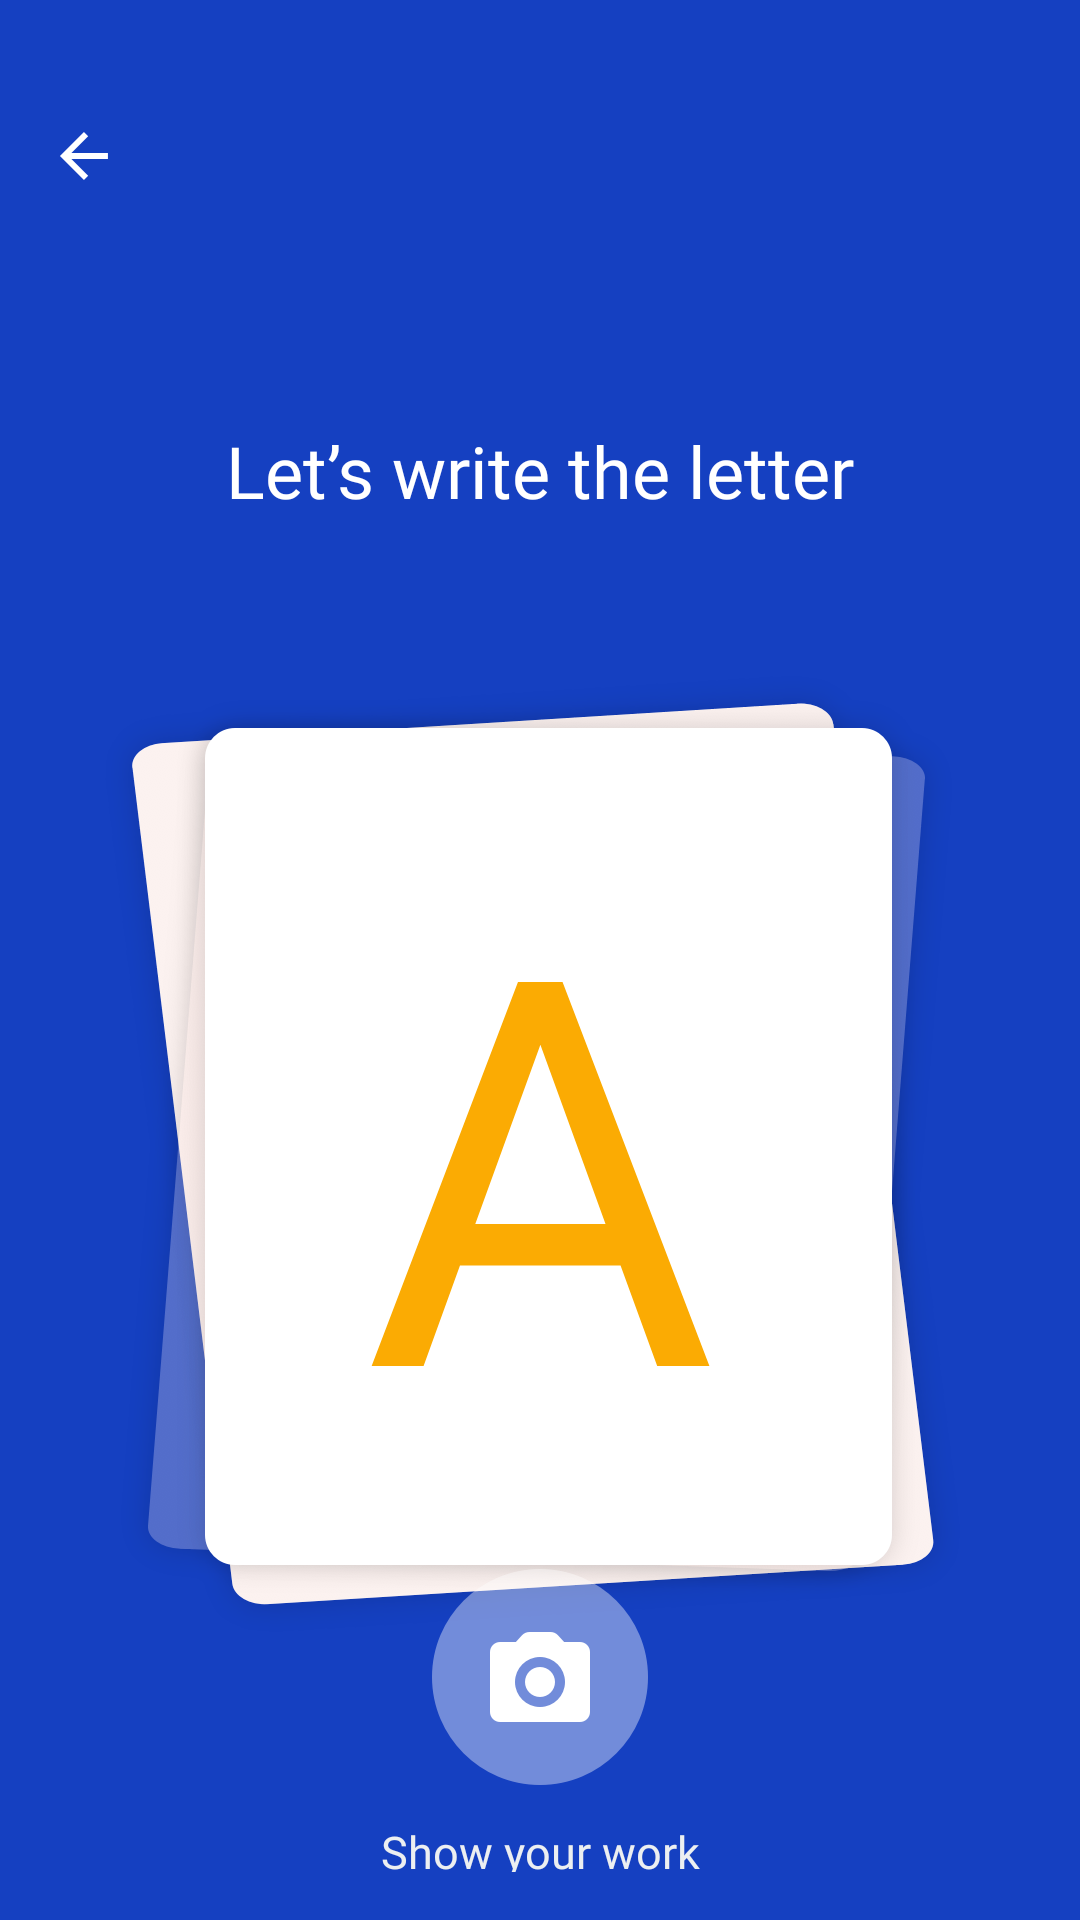

Locate icon controls on the screen. Image size 1080 x 1920, boxes as (x1, y1, x2, y2).
back: (60, 132, 108, 180)
camera nurmal: (432, 1569, 648, 1785)
